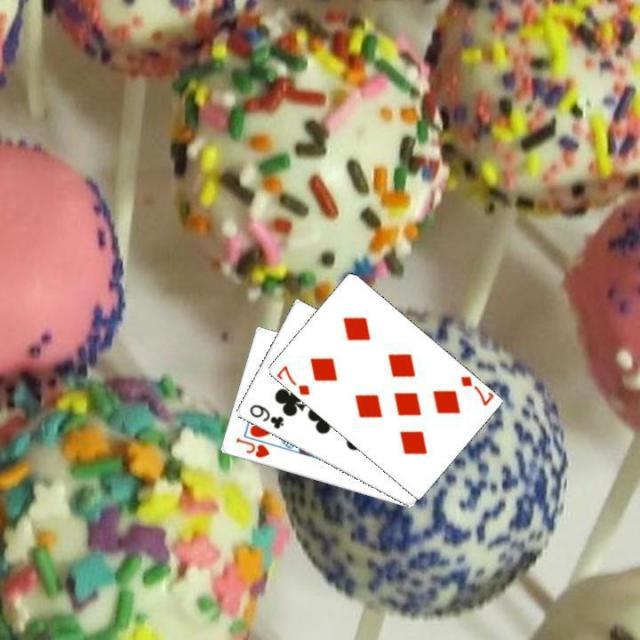7D: (273, 361, 311, 397), (456, 372, 494, 408)
9C: (246, 400, 286, 431)
JH: (232, 434, 271, 460)
